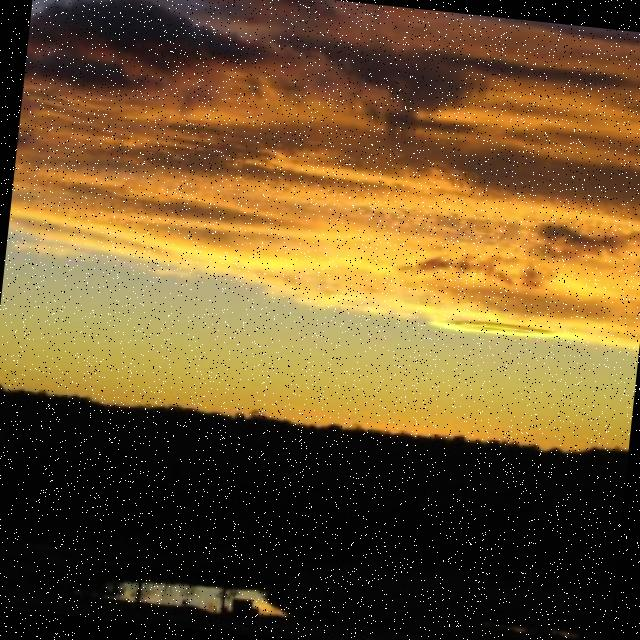As: (1, 1, 640, 368)
